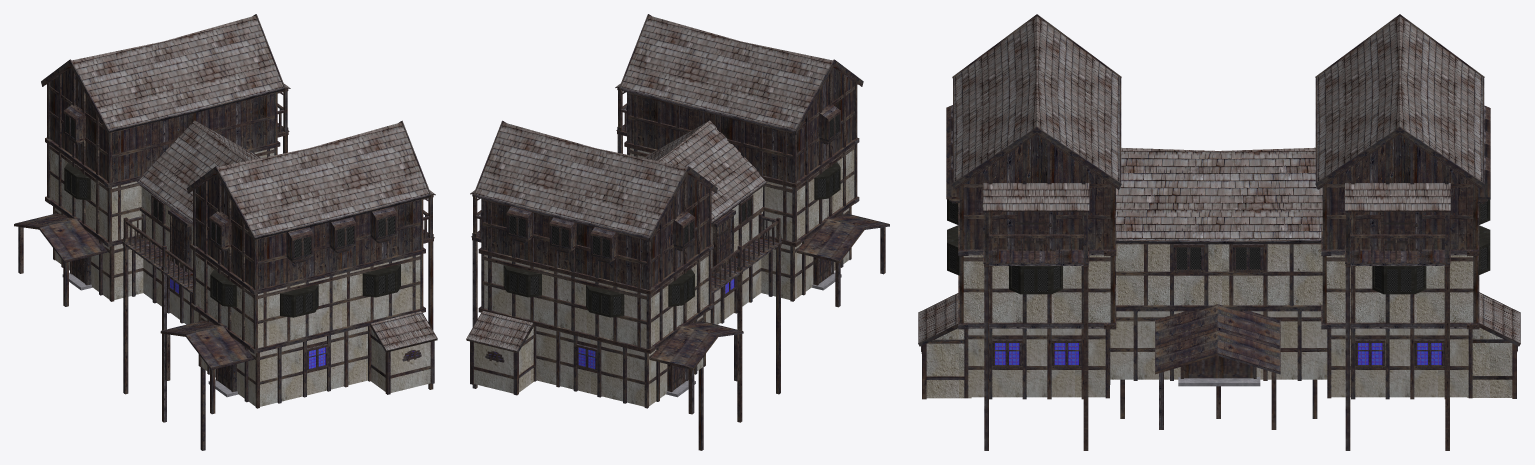
The model's file is hhouse06.dae.
The picture shows the model from 3 angles, left to right: view 1: azimuth 30°, elevation 25°; view 2: azimuth 150°, elevation 25°; view 3: azimuth 270°, elevation 25°; orthographic projection. The views are drawn at different scales.
Visible parts, largest first — view 1: House2_Roof, House2_Roof_001, House2_Level3_001, House2_Level3, House2_Level2_001, House2_Level1_001, House1_Roof, House2_Level2_Beams_001, House2_Level3_Beams, House2_Level3_Beams_001, House2_Level2, House2_Level1_Beams_001 (+36 smaller); view 2: House2_Roof_001, House2_Roof, House2_Level3, House2_Level3_001, House2_Level2, House2_Level1, House1_Roof, House2_Level2_Beams, House2_Level3_Beams_001, House2_Level3_Beams, House2_Level2_001, House2_Level1_Beams (+36 smaller); view 3: House1_Roof, House2_Roof, House2_Roof_001, House1_Level2, House2_Level3, House2_Level3_001, House2_Level2, House2_Level2_001, House2_Level1, House2_Level1_001, House1_Level1, Roof1Outer_001 (+41 smaller).
Boxes of the visible parts, x1=… form: House2_Roof: x1=71, y1=15, x2=283, y2=129; House2_Roof_001: x1=217, y1=122, x2=429, y2=236; House2_Level3_001: x1=196, y1=174, x2=420, y2=289; House2_Level3: x1=50, y1=67, x2=274, y2=182; House2_Level2_001: x1=196, y1=252, x2=420, y2=347; House2_Level1_001: x1=201, y1=315, x2=367, y2=406; House1_Roof: x1=138, y1=120, x2=259, y2=221; House2_Level2_Beams_001: x1=193, y1=250, x2=423, y2=349; House2_Level3_Beams: x1=47, y1=70, x2=277, y2=183; House2_Level3_Beams_001: x1=193, y1=176, x2=423, y2=290; House2_Level2: x1=50, y1=147, x2=274, y2=241; House2_Level1_Beams_001: x1=198, y1=313, x2=371, y2=408; House2_Roof_001: x1=621, y1=15, x2=832, y2=129; House2_Roof: x1=475, y1=122, x2=687, y2=236; House2_Level3: x1=484, y1=174, x2=708, y2=289; House2_Level3_001: x1=630, y1=67, x2=854, y2=182; House2_Level2: x1=484, y1=254, x2=708, y2=347; House2_Level1: x1=536, y1=315, x2=703, y2=406; House1_Roof: x1=645, y1=120, x2=765, y2=221; House2_Level2_Beams: x1=481, y1=250, x2=711, y2=349; House2_Level3_Beams_001: x1=627, y1=69, x2=857, y2=183; House2_Level3_Beams: x1=481, y1=176, x2=711, y2=290; House2_Level2_001: x1=630, y1=147, x2=854, y2=241; House2_Level1_Beams: x1=533, y1=313, x2=705, y2=408; House1_Roof: x1=1115, y1=147, x2=1322, y2=240; House2_Roof: x1=1317, y1=16, x2=1482, y2=181; House2_Roof_001: x1=954, y1=16, x2=1119, y2=181; House1_Level2: x1=1115, y1=244, x2=1322, y2=305; House2_Level3: x1=1326, y1=134, x2=1473, y2=249; House2_Level3_001: x1=963, y1=134, x2=1110, y2=249; House2_Level2: x1=1326, y1=255, x2=1473, y2=322; House2_Level2_001: x1=963, y1=255, x2=1110, y2=322; House2_Level1: x1=1331, y1=328, x2=1468, y2=397; House2_Level1_001: x1=968, y1=328, x2=1105, y2=397; House1_Level1: x1=1110, y1=311, x2=1327, y2=379; Roof1Outer_001: x1=1155, y1=327, x2=1279, y2=371.
Bounding box in the file's own units: 12.13 × 19.7 × 14.09.
28 materials, 28 textured.
